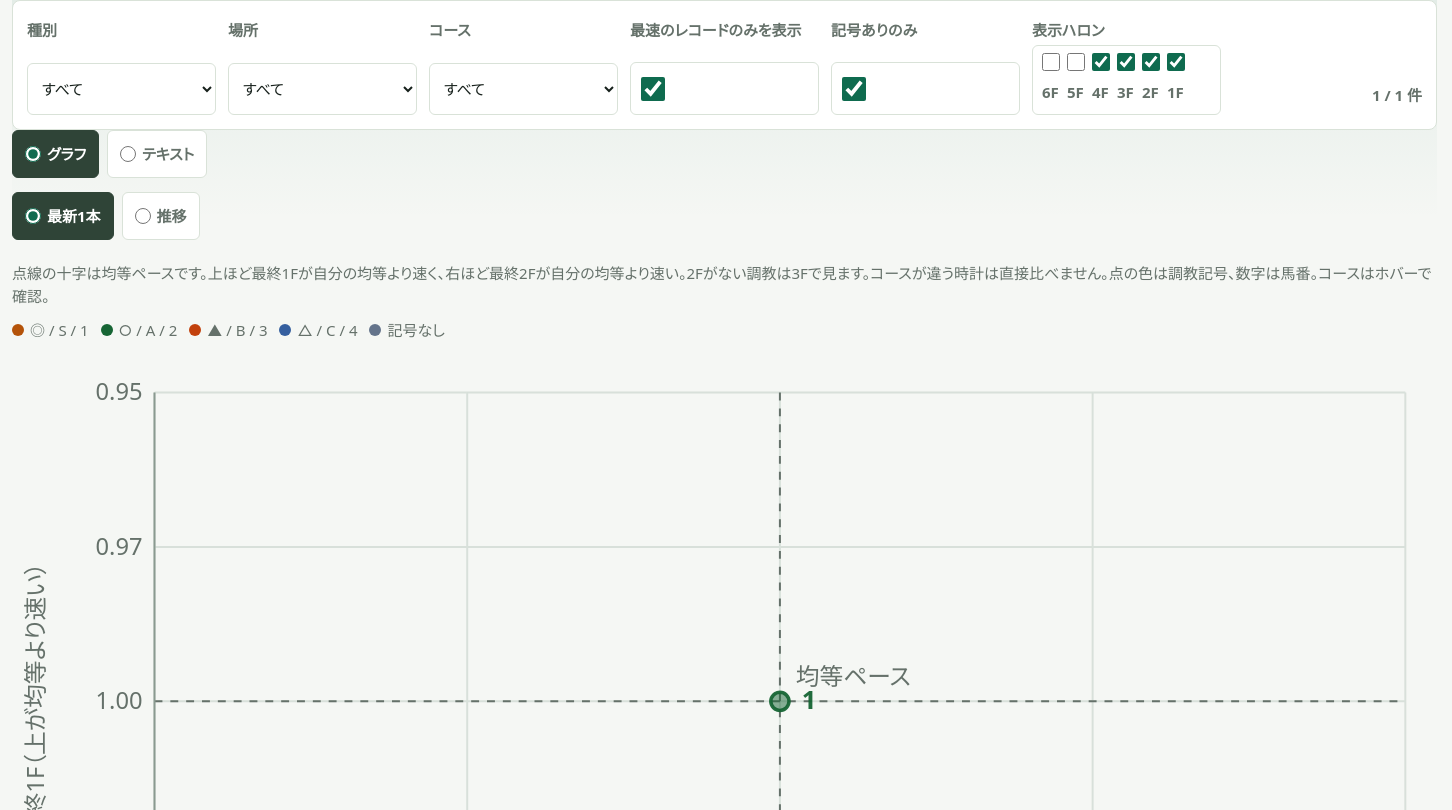
hides the chart and persists graph-off when テキスト is selected
Click the radio button labelled "テキスト" at (128, 154), box [120,146,136,162]
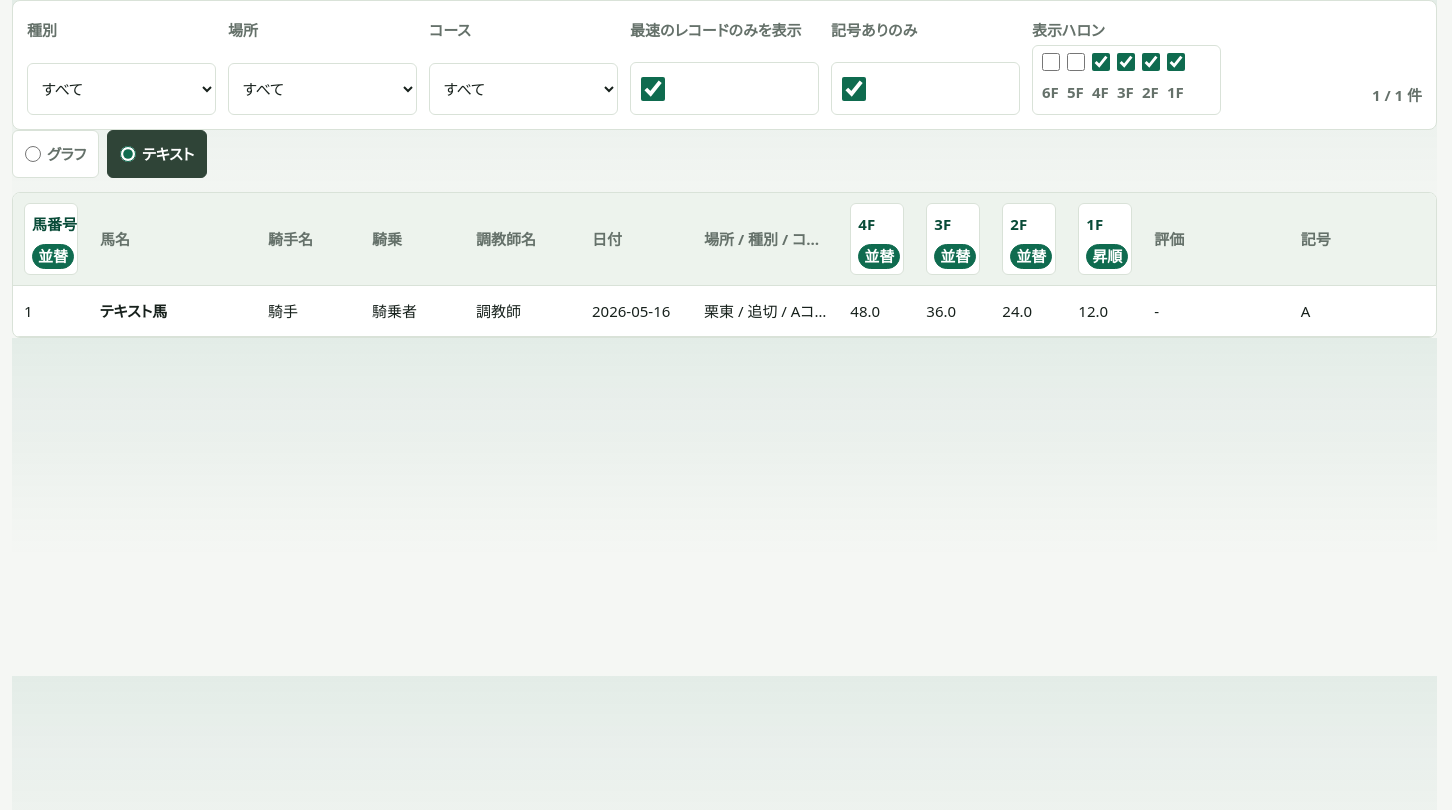
Expected: the radio button labelled "テキスト" is checked, [120,146,136,162]
Expected: the column heading "馬名" is shown, [89,193,257,286]
Expected: the radio button labelled "グラフ" is not checked, [25,146,41,162]
